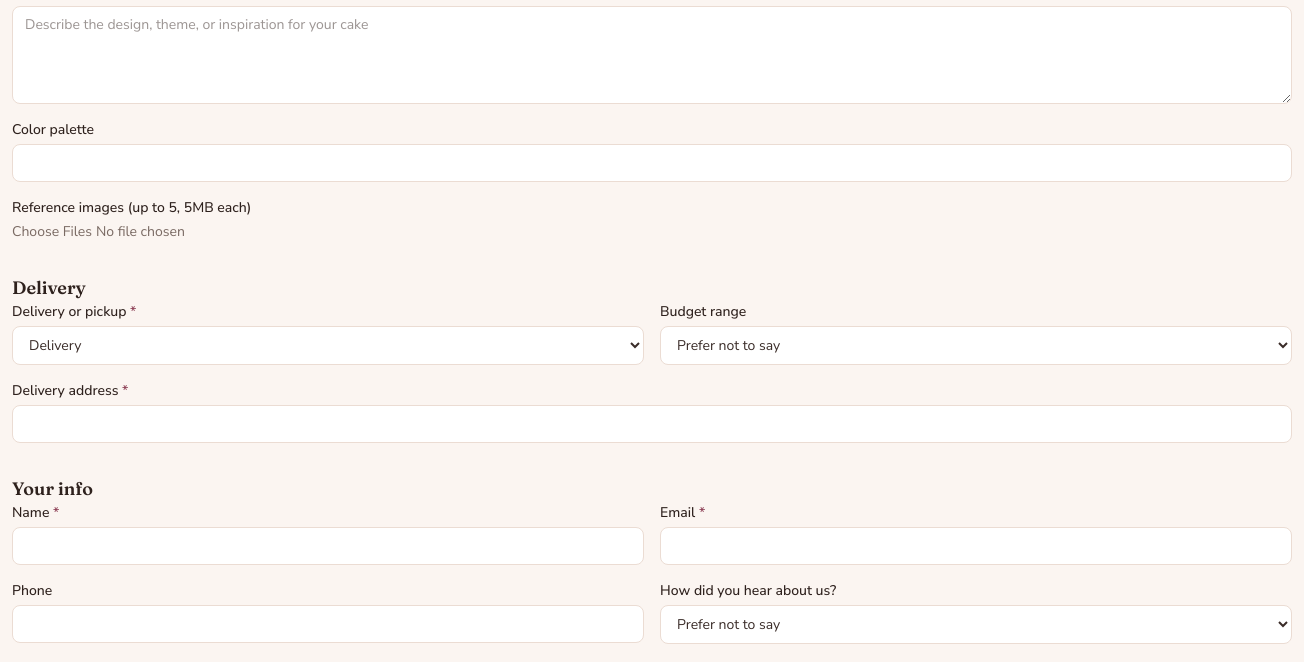
Scenario: OrderForm › shows the delivery address field only when delivery is selected
(page scrolled)
Expected: the field labelled "Delivery address *" is shown, [12, 405, 1292, 443]
Select "Pickup" in the dropdown labelled "Delivery or pickup *" at (328, 346), box [12, 326, 644, 365]
(page scrolled)
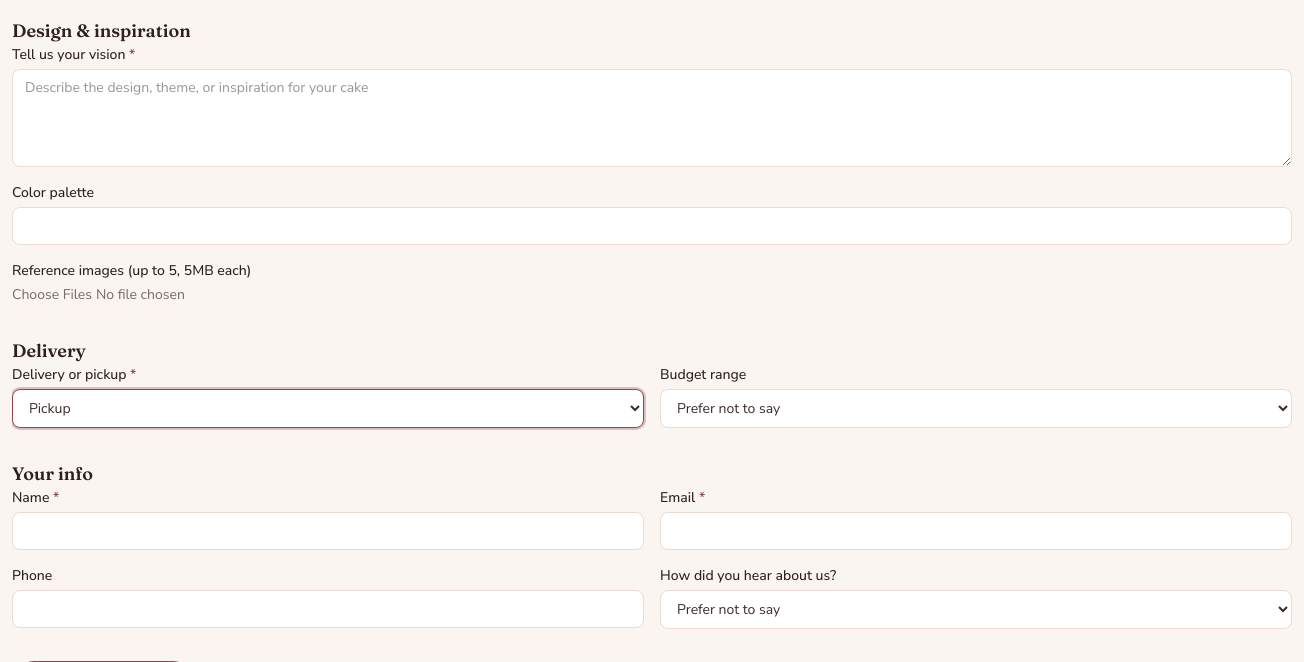
Expected: the field labelled "Delivery address" is gone
Select "Delivery" in the dropdown labelled "Delivery or pickup *" at (328, 408), box [12, 389, 644, 428]
(page scrolled)
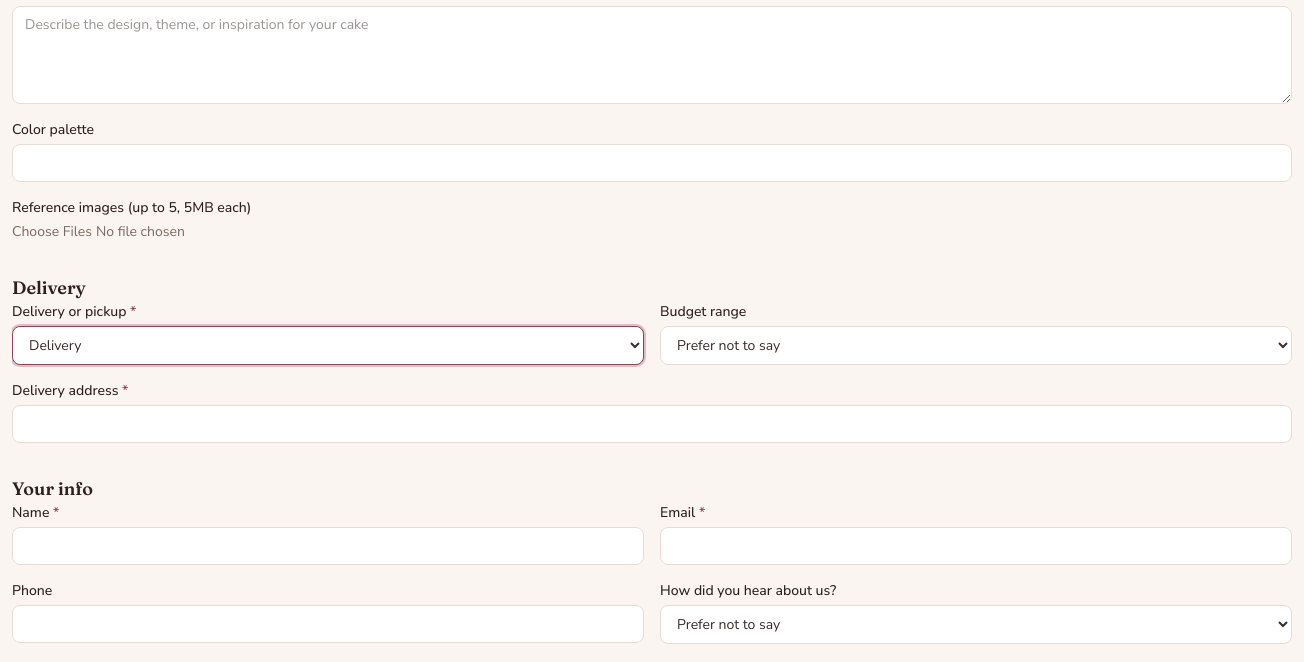
Expected: the field labelled "Delivery address *" is shown, [12, 405, 1292, 443]
